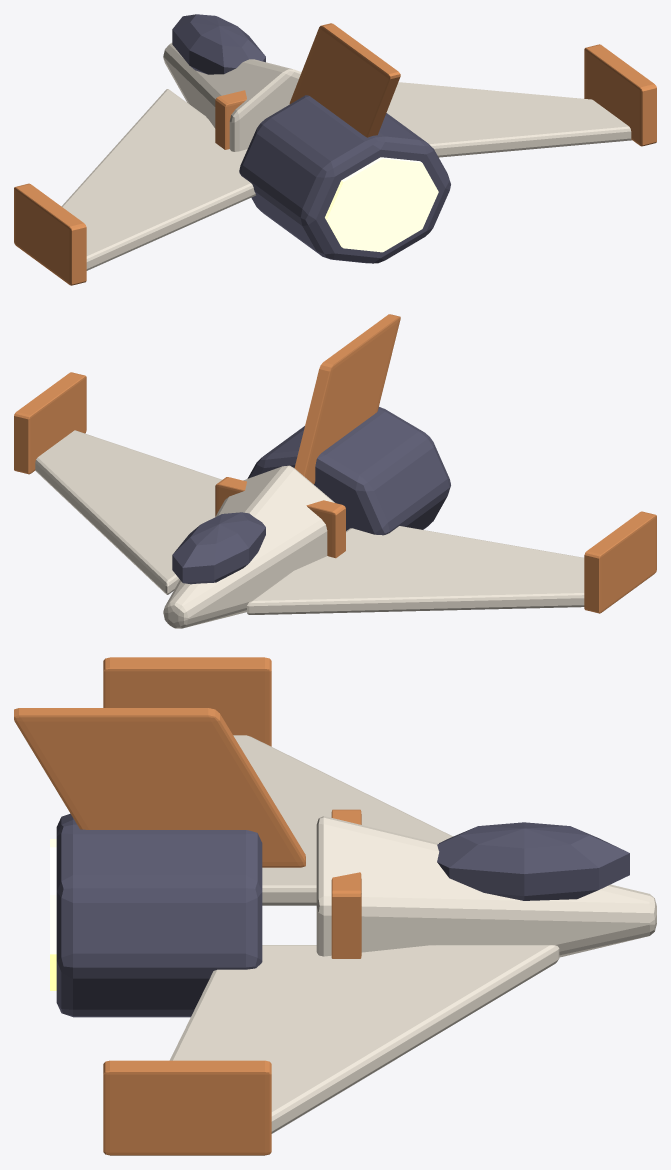
File: ship.glb
The picture shows the model from 3 angles, top to bottom: view 1: azimuth 30°, elevation 25°; view 2: azimuth 150°, elevation 25°; view 3: azimuth 270°, elevation 25°; orthographic projection. The views are drawn at different scales.
Parts seen in each view (by area): view 1: Cone; view 2: Cone; view 3: Cone.
Boxes of the visible parts, x1,y1,x2,y2 form: Cone: (14,14,656,285); Cone: (14,314,656,628); Cone: (14,657,656,1155).
Size of the model in its own units: 5.24 by 1.77 by 3.44.
